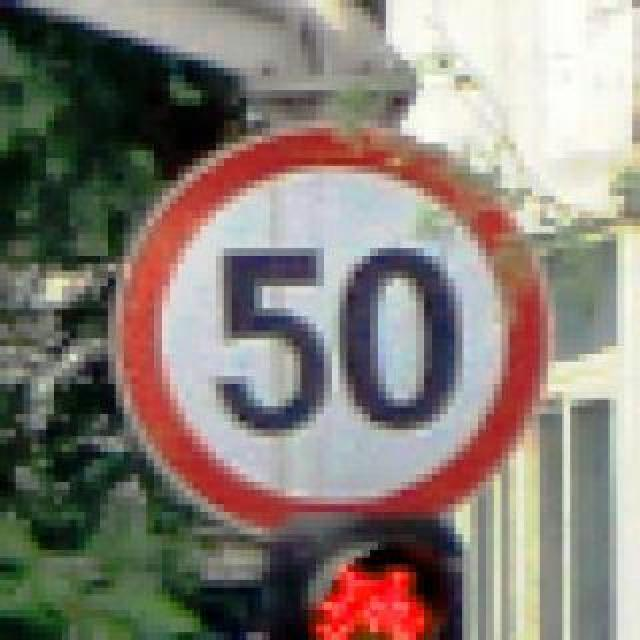50 kph: (100, 114, 548, 536)
